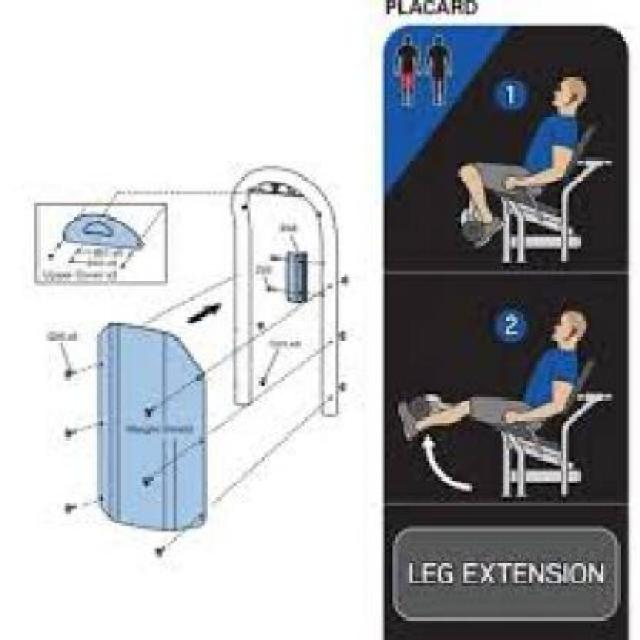leg extension: (391, 302, 623, 500), (425, 68, 612, 260)
